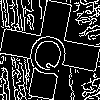Q: (25, 25, 73, 80)
